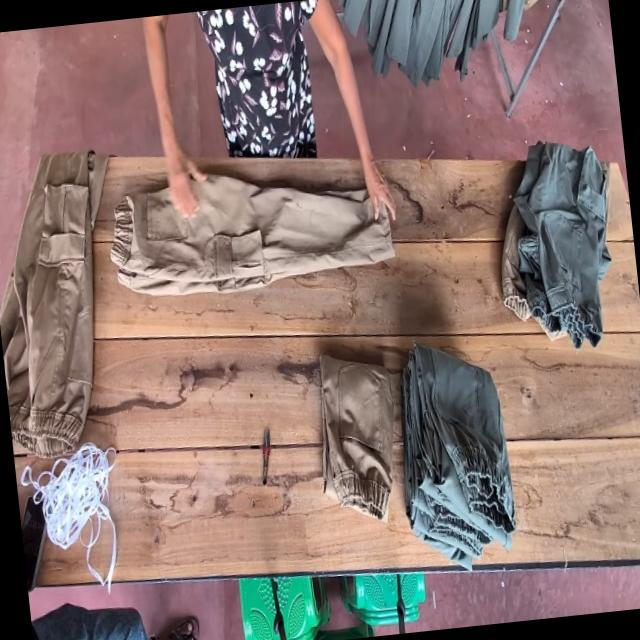new-garment: (109, 175, 393, 294)
